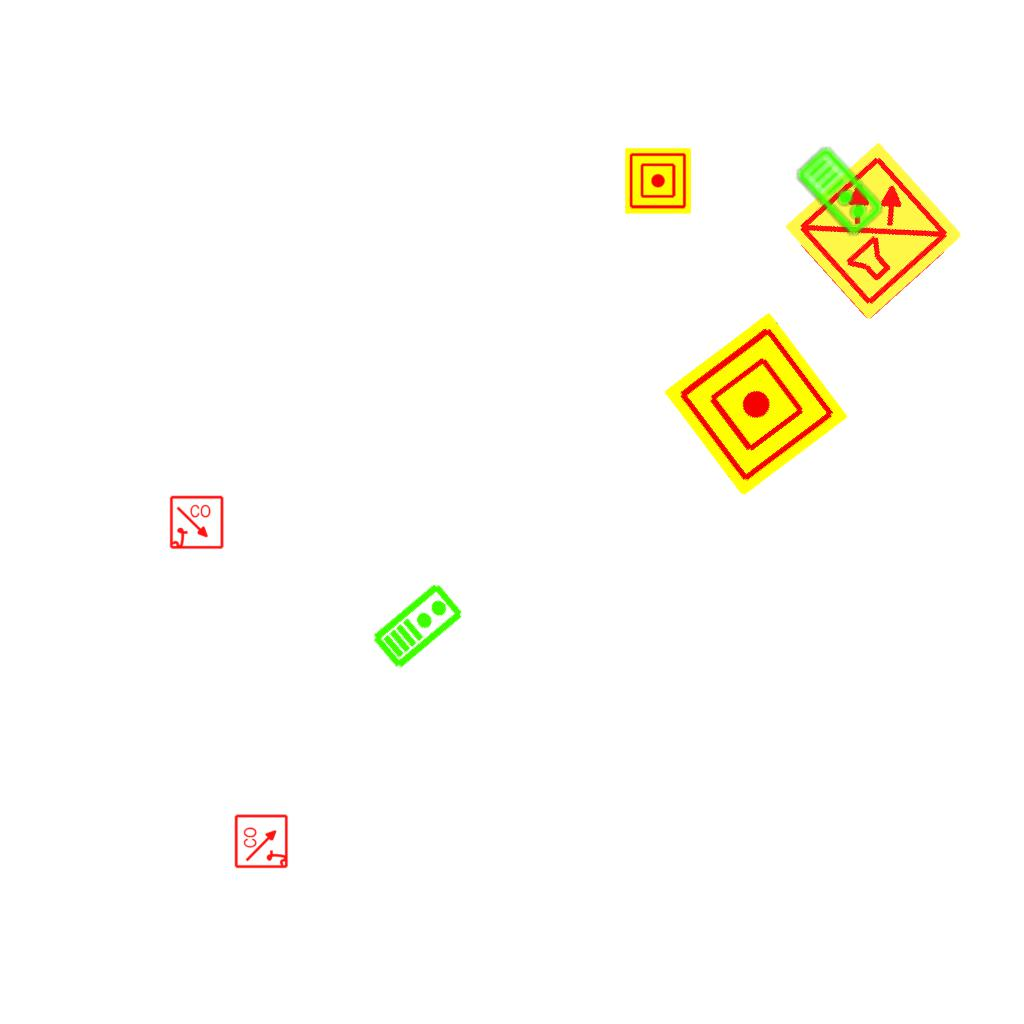Gegensprechanlage_mit_Video: (793, 142, 888, 240), (368, 578, 467, 672)
NAM-Nichtautomatischer_Melder: (663, 311, 849, 497), (625, 148, 691, 214)
OKW_Multisensormelder_(Kombination_optischer_Rauch-Kahlenmonoxid_Waerme-Melder): (780, 137, 968, 325)
ROA_Rauchmelder_optisch_mit_Signalgeber_(Sockelsirene): (234, 813, 290, 869), (169, 495, 225, 551)
